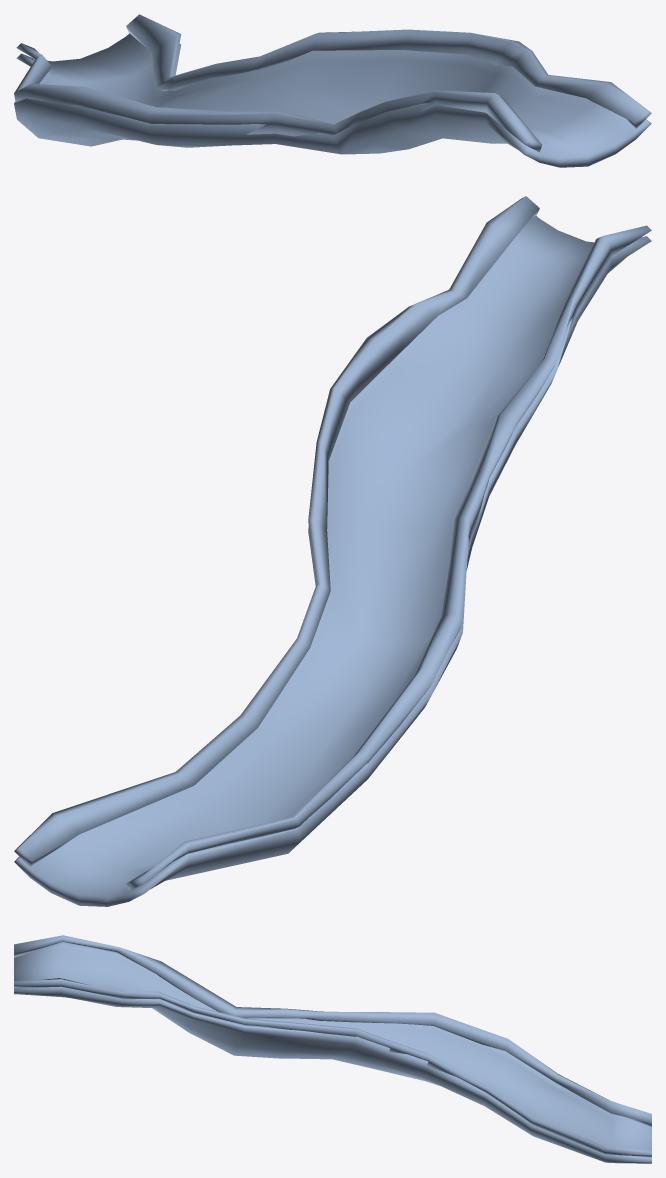
File: junRoadLongCurveSlope5.fbx
The picture shows the model from 3 angles, top to bottom: view 1: azimuth 30°, elevation 25°; view 2: azimuth 150°, elevation 25°; view 3: azimuth 270°, elevation 25°; orthographic projection. The views are drawn at different scales.
Parts seen in each view (by area): view 1: junRoadLongCurveSlope5_LOD0, junRoadLongCurveSlope5_edge_LOD0; view 2: junRoadLongCurveSlope5_LOD0, junRoadLongCurveSlope5_edge_LOD0; view 3: junRoadLongCurveSlope5_LOD0, junRoadLongCurveSlope5_edge_LOD0.
Part boxes in pixels (left/top/right/bottom): junRoadLongCurveSlope5_LOD0: left=14, top=33, right=651, bottom=167; junRoadLongCurveSlope5_edge_LOD0: left=14, top=14, right=651, bottom=152; junRoadLongCurveSlope5_LOD0: left=14, top=215, right=651, bottom=906; junRoadLongCurveSlope5_edge_LOD0: left=14, top=196, right=651, bottom=890; junRoadLongCurveSlope5_LOD0: left=14, top=942, right=651, bottom=1163; junRoadLongCurveSlope5_edge_LOD0: left=14, top=935, right=651, bottom=1156.
Size of the model in its own units: 1291 by 1600 by 4390.
